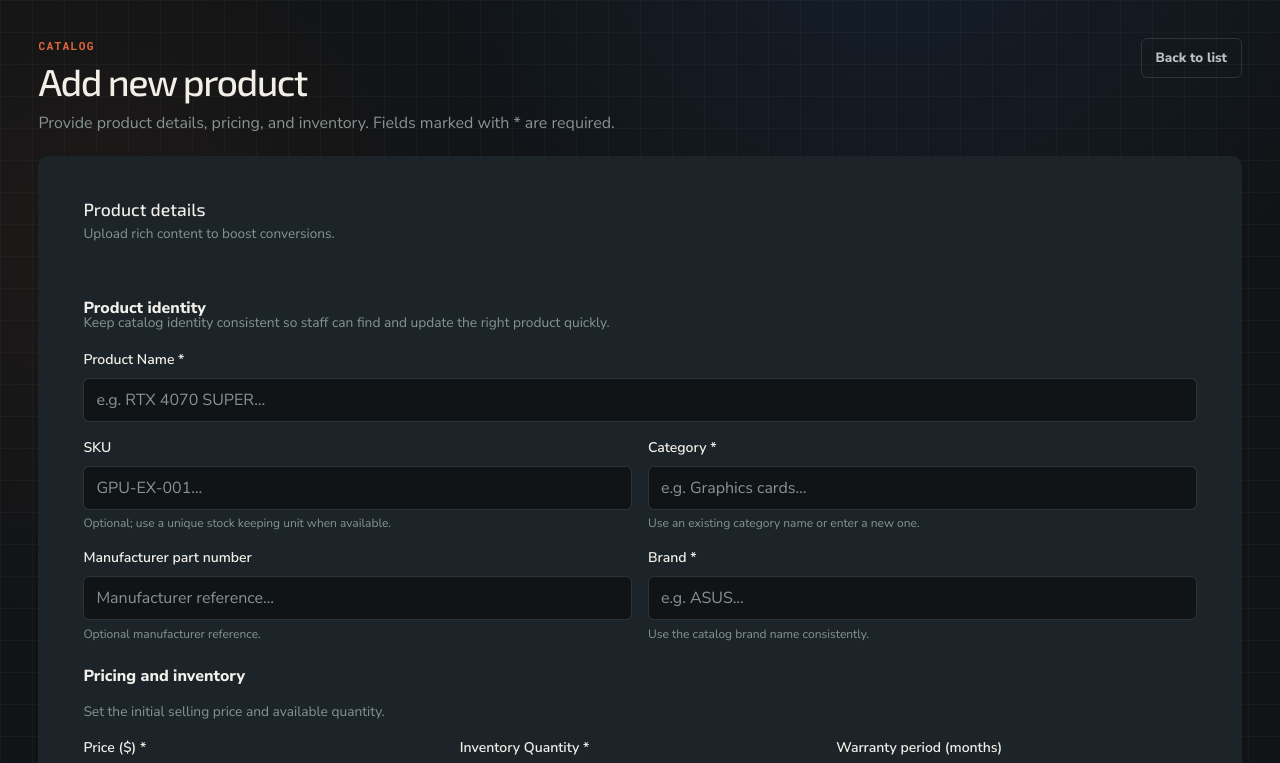
Test: AdminAddProductPage validation › keeps the server mutation error path
Type "USB-C Hub" into the field labelled "Product Name *" at (640, 400), box [83,378,1197,422]
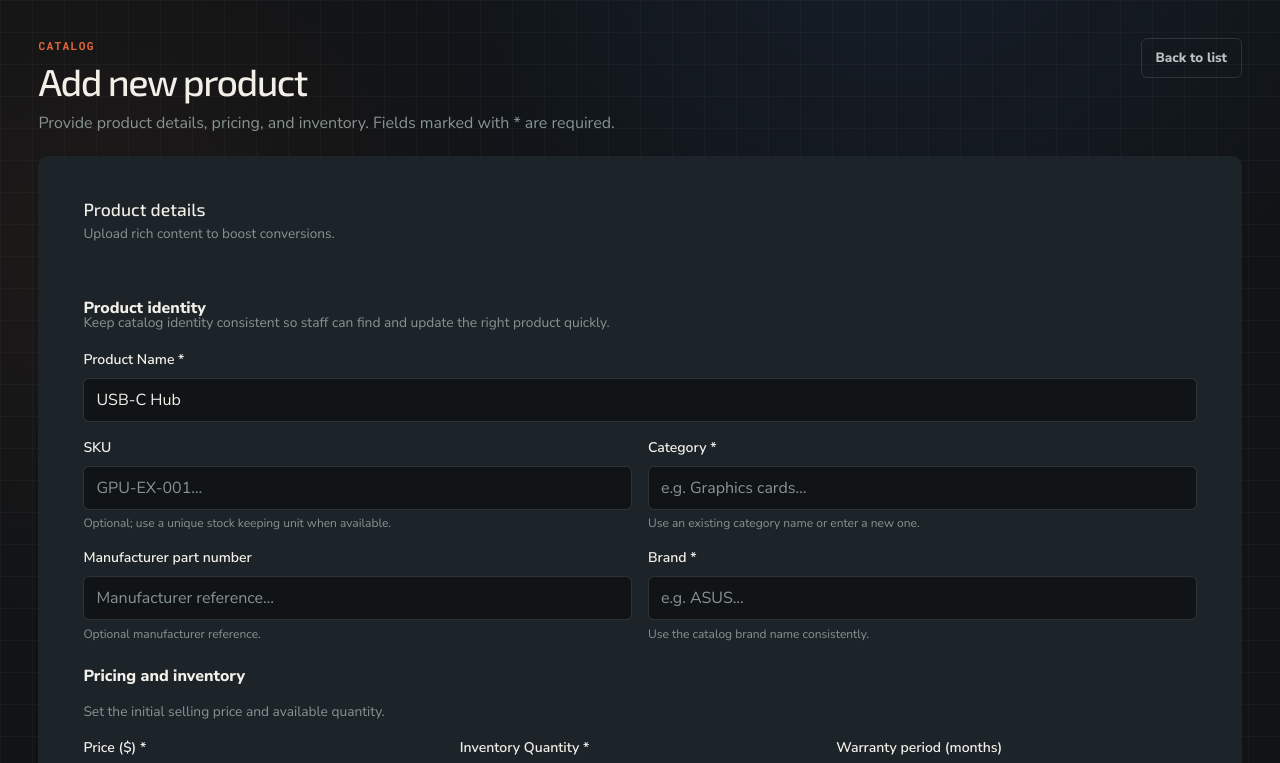
Type "Accessories" into the field labelled "Category *" at (922, 488), box [648,466,1197,510]
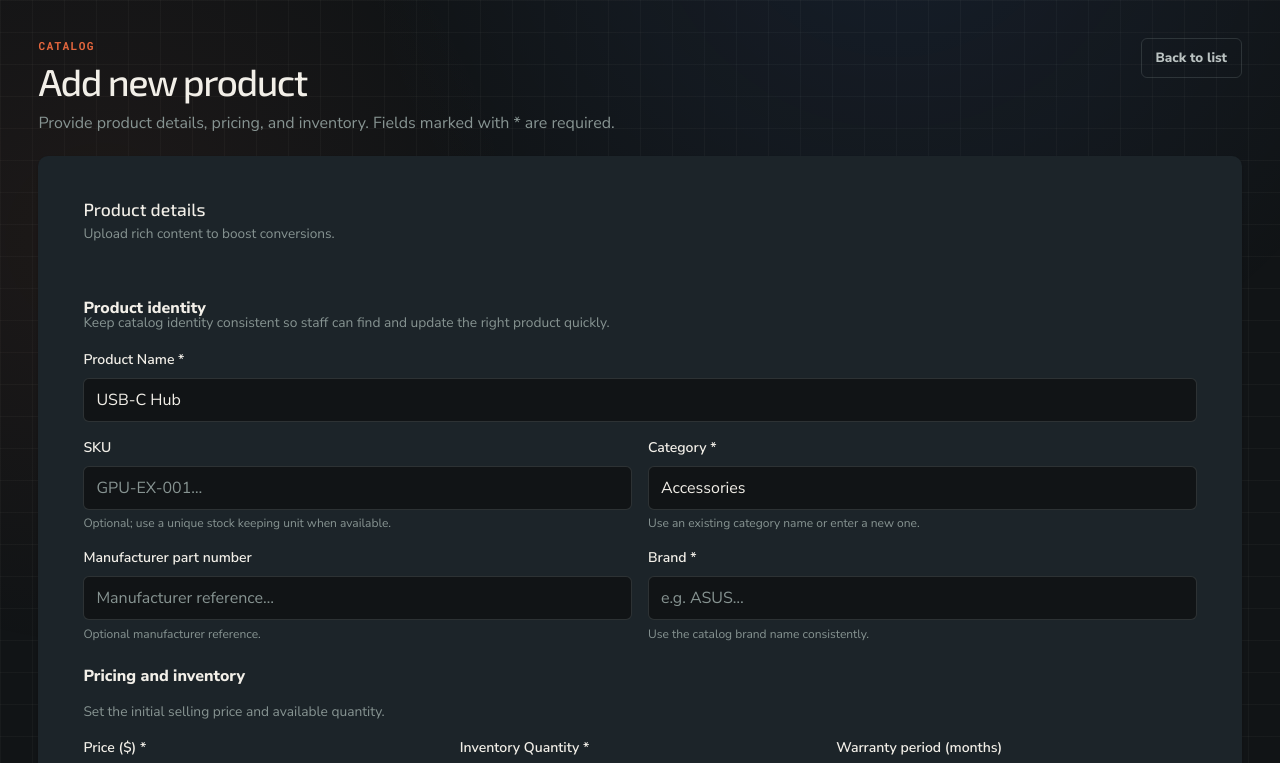
Type "Example" into the field labelled "Brand *" at (922, 598), box [648,576,1197,620]
(page scrolled)
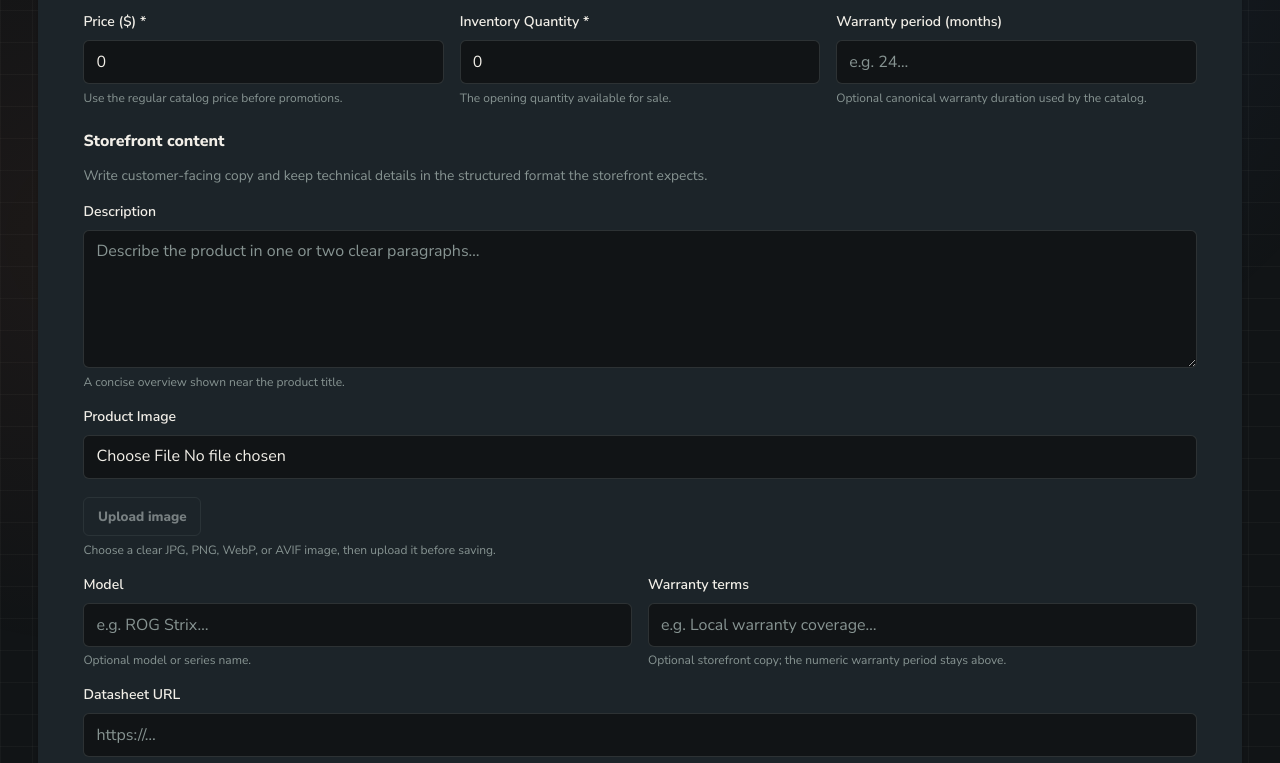
Submit the form named "Save Product"
(page scrolled)
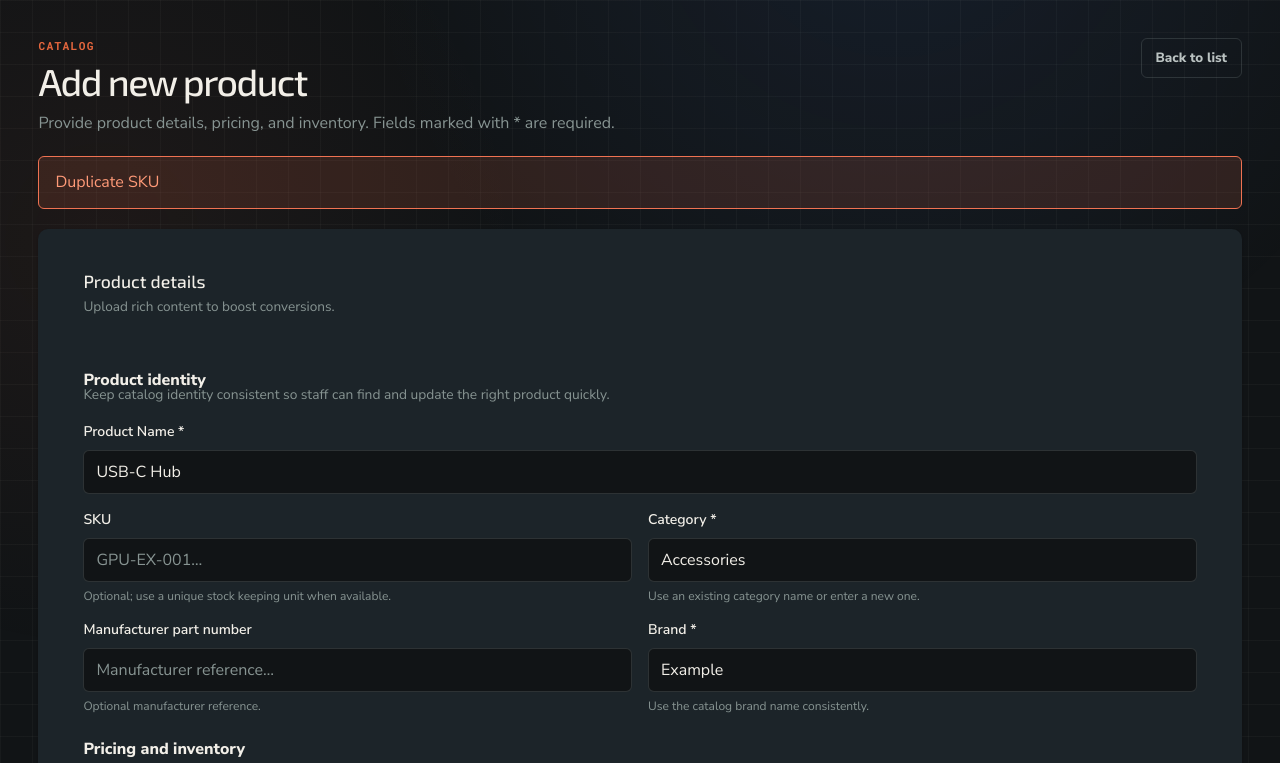
Result: the text "Duplicate SKU" is shown at [38,156,1242,209]
